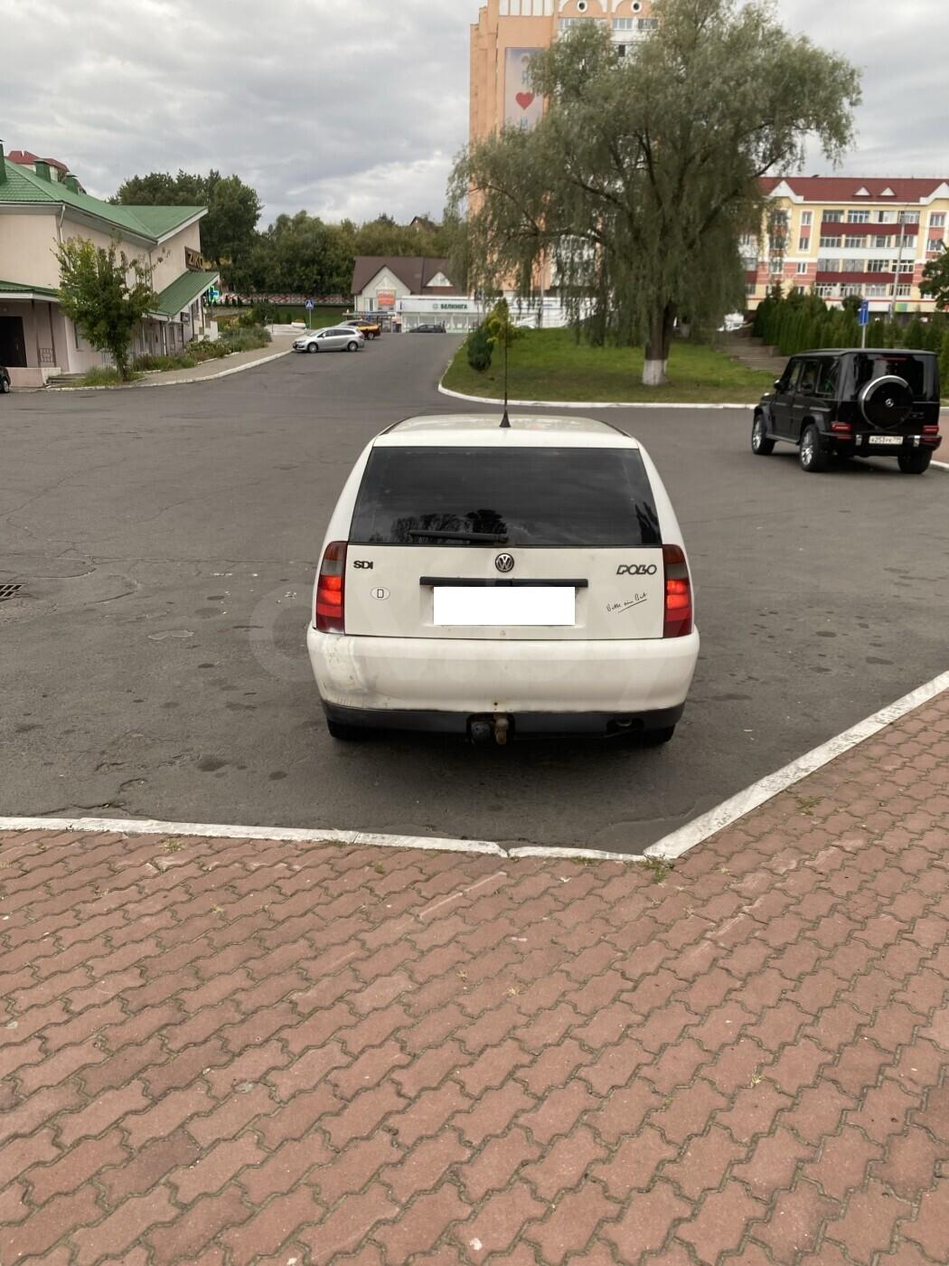Polo_1994-2002: (291, 413, 696, 766)
